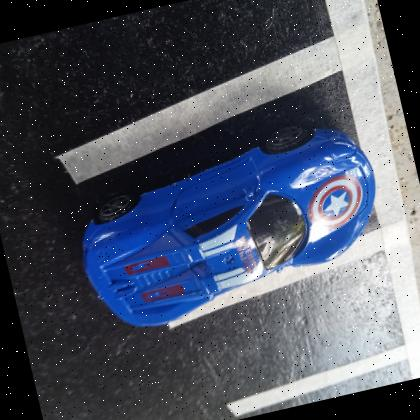Car: (81, 121, 376, 325)
